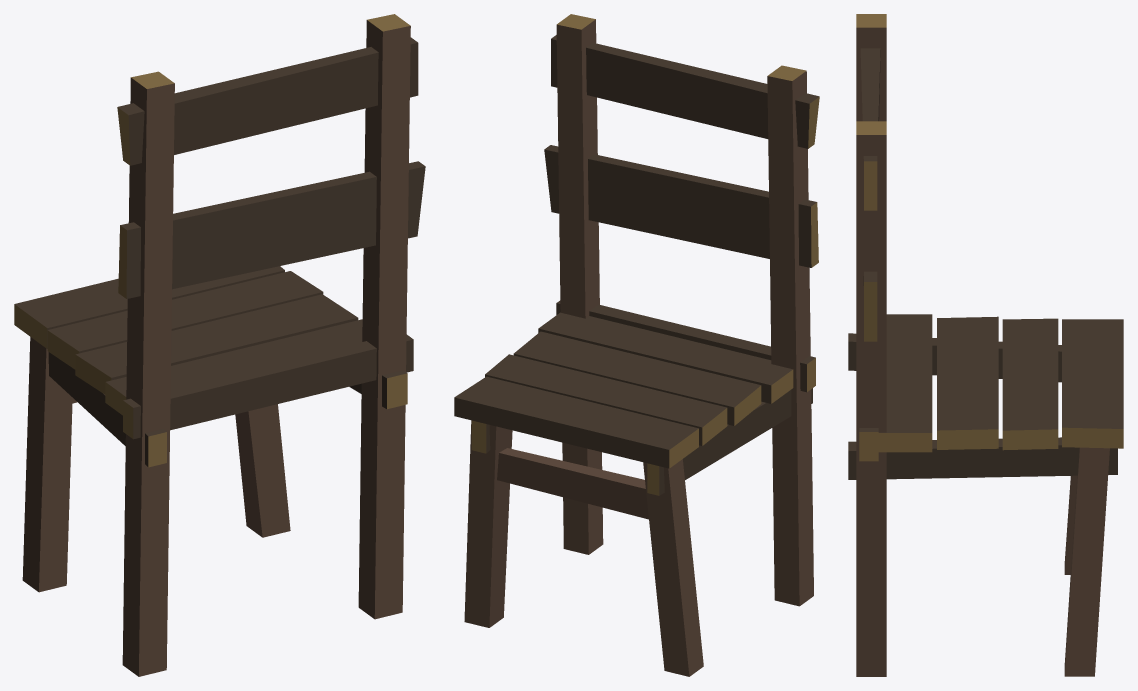
Rendered from Chair_1.fbx.
The picture shows the model from 3 angles, left to right: view 1: azimuth 30°, elevation 25°; view 2: azimuth 150°, elevation 25°; view 3: azimuth 270°, elevation 25°; orthographic projection. The views are drawn at different scales.
Parts seen in each view (by area): view 1: pCube2438; view 2: pCube2438; view 3: pCube2438.
Boxes of the visible parts, box(x1,y1,x2,y2) form: pCube2438: box(14, 14, 425, 676); pCube2438: box(454, 14, 819, 676); pCube2438: box(848, 14, 1123, 676).
Size of the model in its own units: 74.98 by 140 by 63.92.
